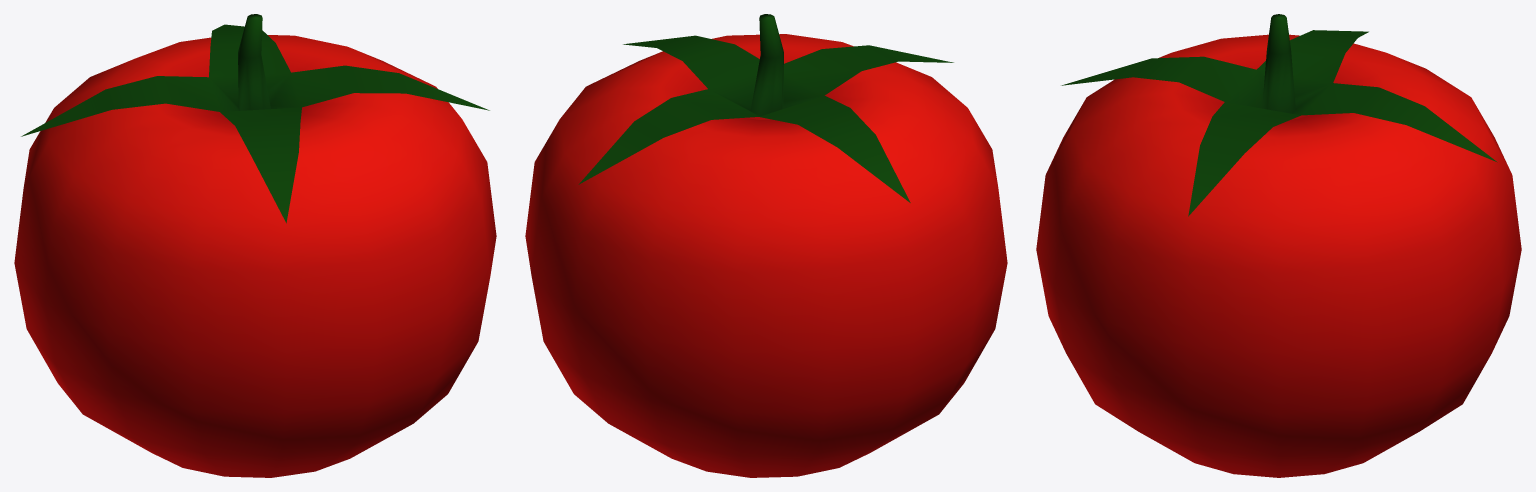
Rendered from Tomato_Regular.fbx.
3 renders of one model, left to right at view 1: azimuth 30°, elevation 25°; view 2: azimuth 150°, elevation 25°; view 3: azimuth 270°, elevation 25°, orthographic.
Parts seen in each view (by area): view 1: Tomato_Regular; view 2: Tomato_Regular; view 3: Tomato_Regular.
Part boxes in pixels (bbox=[...]): Tomato_Regular: bbox=[14, 14, 496, 477]; Tomato_Regular: bbox=[525, 14, 1007, 477]; Tomato_Regular: bbox=[1036, 14, 1521, 477].
Size of the model in its own units: 21.76 by 21.18 by 21.76.
